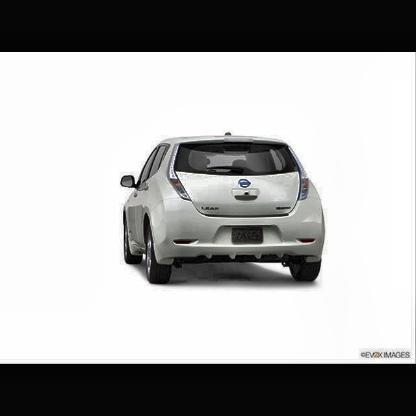Nissan Leaf Hatchback 2012: (121, 133, 327, 286)
